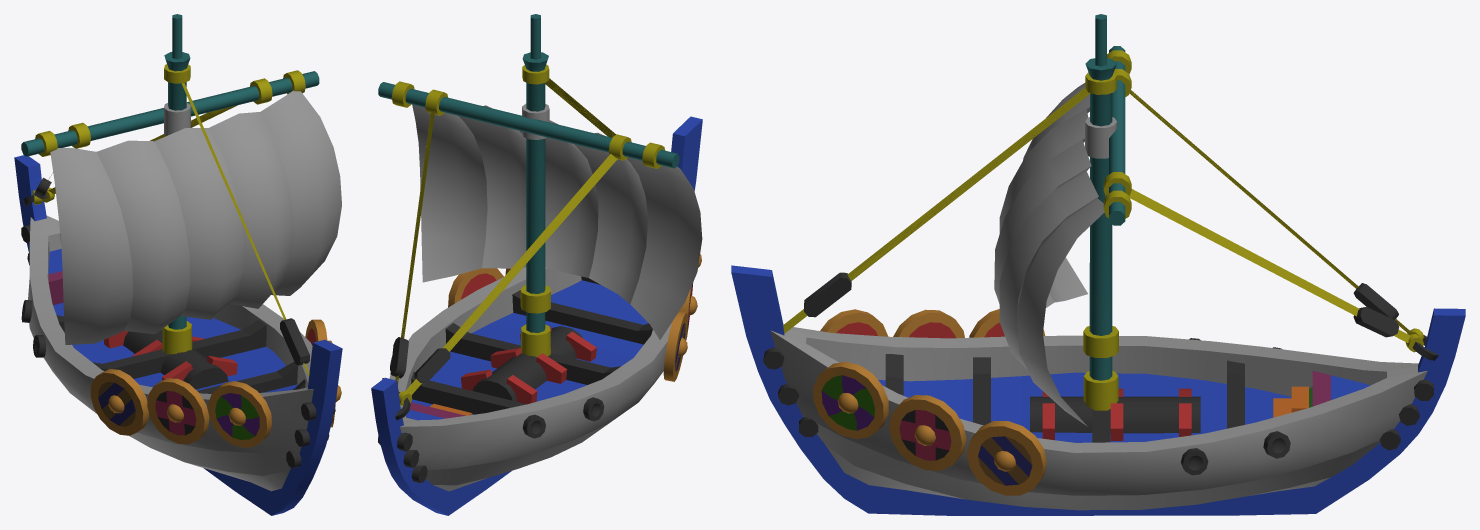
Rendered from Ferring_mm.fbx.
3 renders of one model, left to right at view 1: azimuth 30°, elevation 25°; view 2: azimuth 150°, elevation 25°; view 3: azimuth 270°, elevation 25°, orthographic. The views are drawn at different scales.
Visible parts, largest first — view 1: Sails, Ferring, Upgrade_02, Upgrade_01; view 2: Ferring, Sails, Upgrade_01, Upgrade_02; view 3: Ferring, Sails, Upgrade_02, Upgrade_01.
Boxes of the visible parts, left/top/right/bottom form: Sails: left=50, top=90, right=341, bottom=344; Ferring: left=14, top=14, right=342, bottom=515; Upgrade_02: left=90, top=319, right=341, bottom=447; Upgrade_01: left=56, top=315, right=305, bottom=393; Ferring: left=371, top=14, right=702, bottom=515; Sails: left=412, top=104, right=702, bottom=339; Upgrade_01: left=411, top=276, right=652, bottom=414; Upgrade_02: left=448, top=254, right=701, bottom=381; Ferring: left=731, top=14, right=1465, bottom=515; Sails: left=994, top=83, right=1104, bottom=426; Upgrade_02: left=813, top=309, right=1046, bottom=495; Upgrade_01: left=885, top=354, right=1244, bottom=442.
Size of the model in its own units: 430 by 602 by 808.
